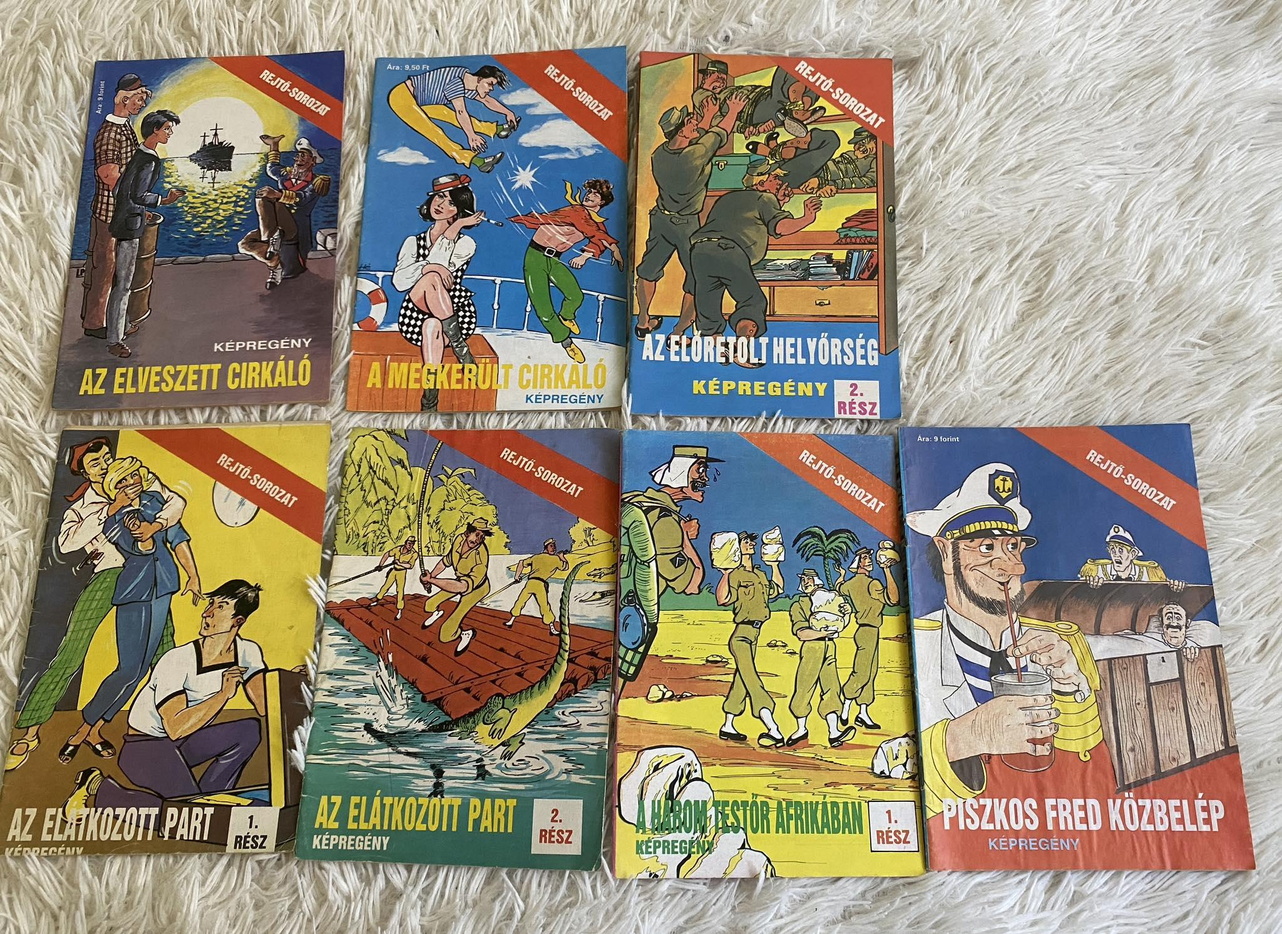comic: (899, 408, 1253, 889), (0, 394, 340, 884), (297, 418, 621, 871), (612, 432, 923, 878), (52, 43, 344, 417), (628, 52, 906, 419), (348, 48, 628, 411)
